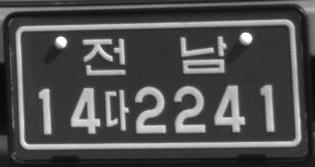1: (254, 83, 281, 133), (32, 87, 58, 136)
2: (172, 84, 206, 135), (134, 85, 167, 135)
4: (213, 83, 246, 134), (68, 86, 101, 135)
다: (104, 88, 129, 131)
전남_D: (80, 35, 228, 77)
